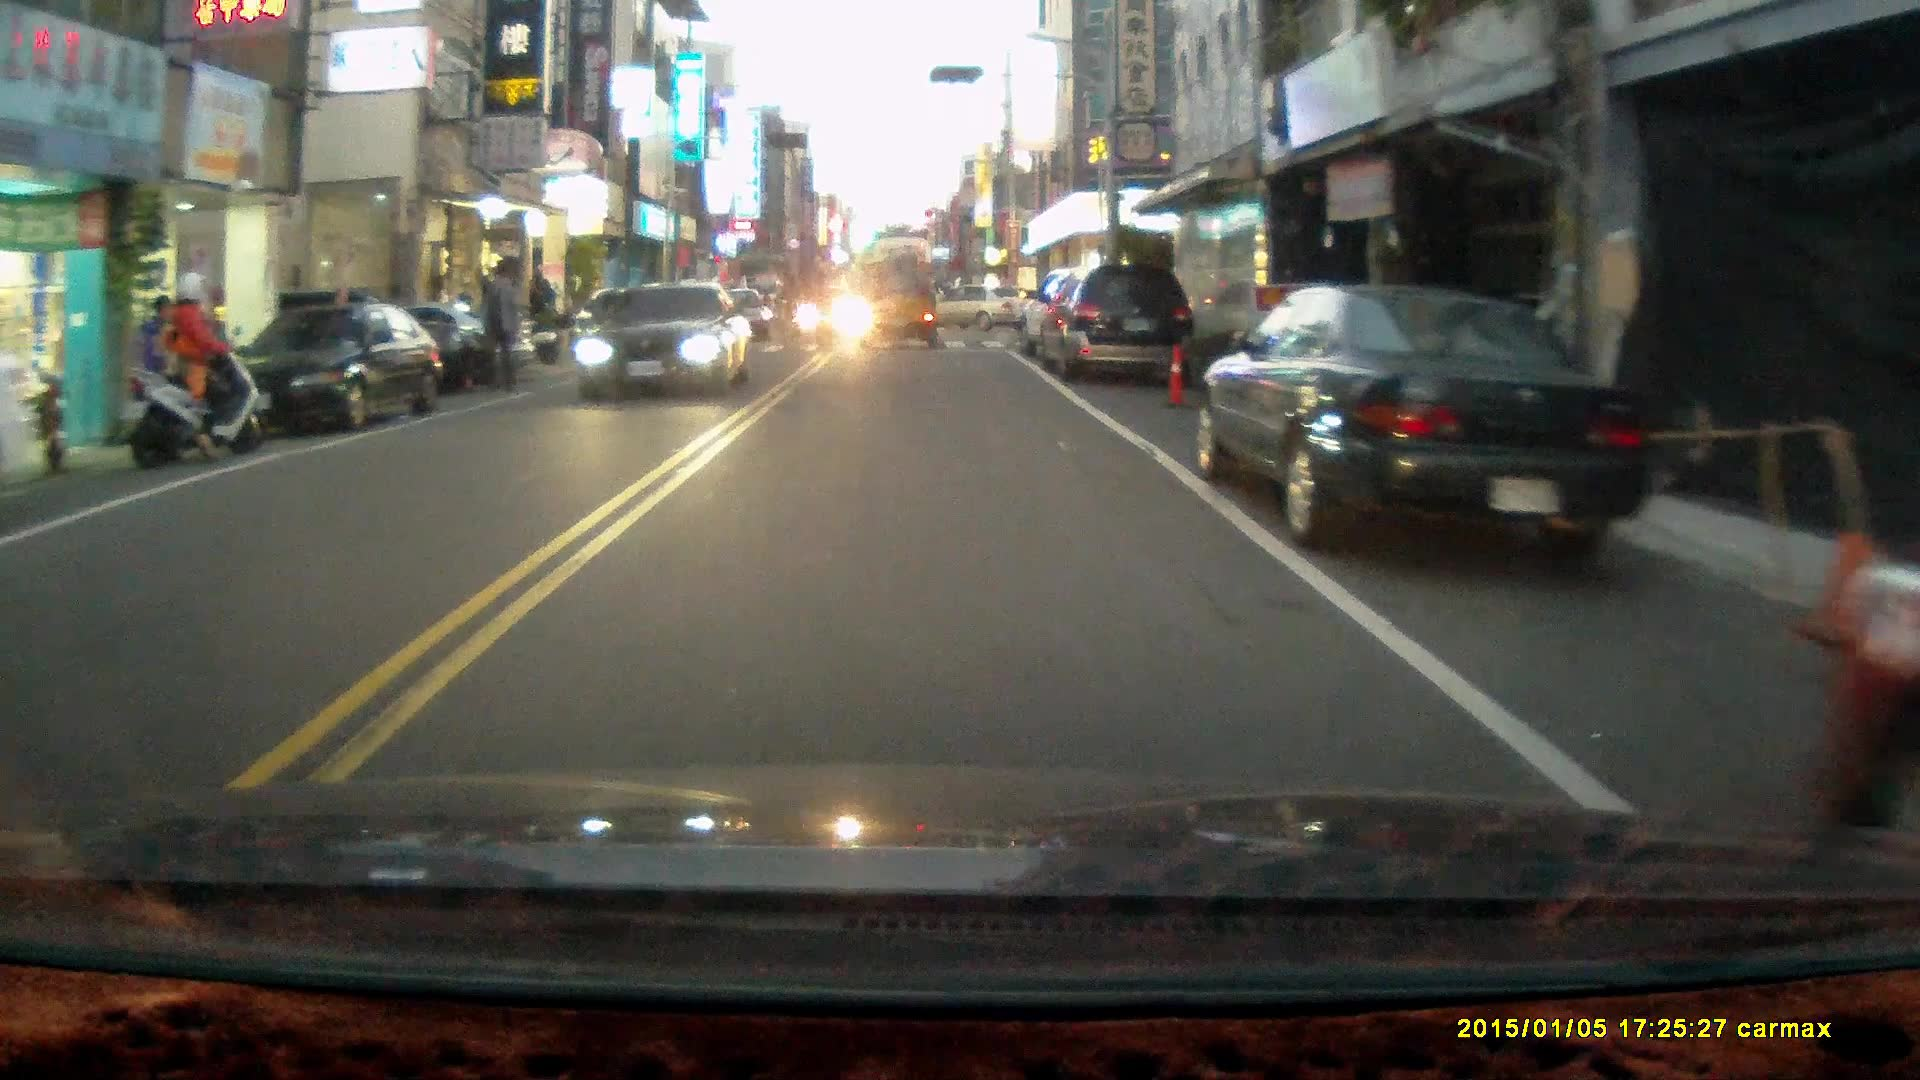pedestrian: (474, 263, 519, 396)
rider: (126, 268, 264, 464)
vehicle: (1191, 279, 1656, 568), (217, 300, 439, 433), (576, 279, 756, 397), (1032, 262, 1200, 381), (862, 263, 943, 353), (912, 283, 1042, 336)
